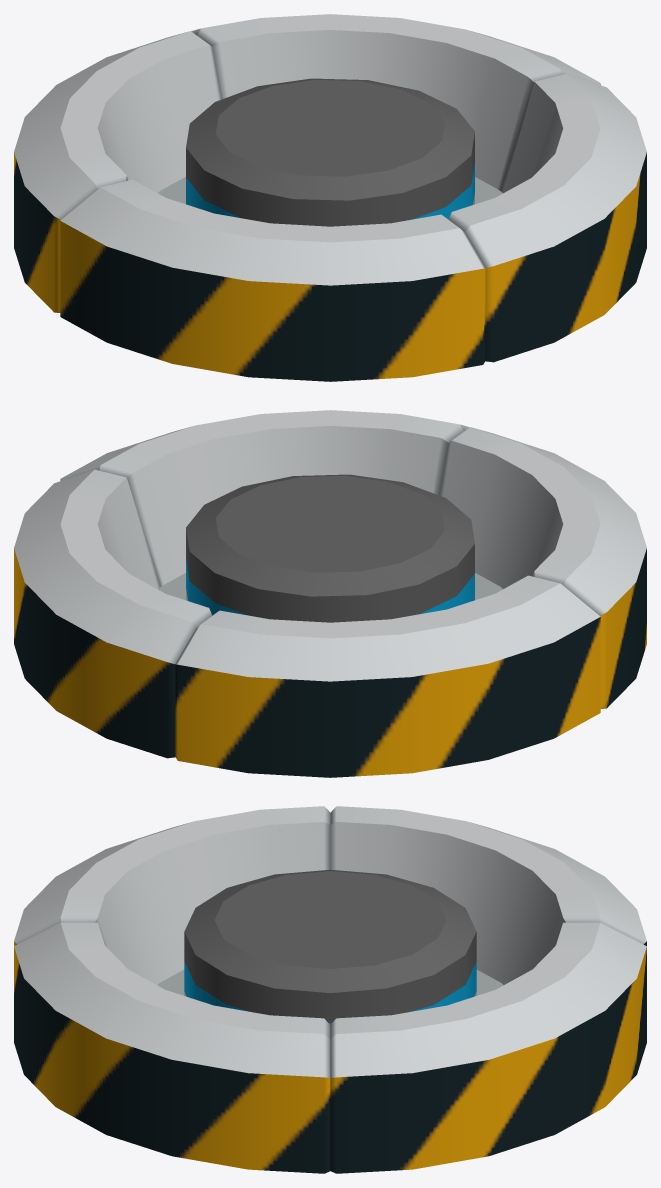
File: Turret_011.fbx
3 views of the same model, one above another, from view 1: azimuth 30°, elevation 25°; view 2: azimuth 150°, elevation 25°; view 3: azimuth 270°, elevation 25° (orthographic).
Parts seen in each view (by area): view 1: Turret_011; view 2: Turret_011; view 3: Turret_011.
Part boxes in pixels (left/top/right/bottom): Turret_011: left=14, top=14, right=646, bottom=381; Turret_011: left=14, top=410, right=646, bottom=777; Turret_011: left=14, top=806, right=646, bottom=1173.
Size of the model in its own units: 173 by 173 by 36.27.
